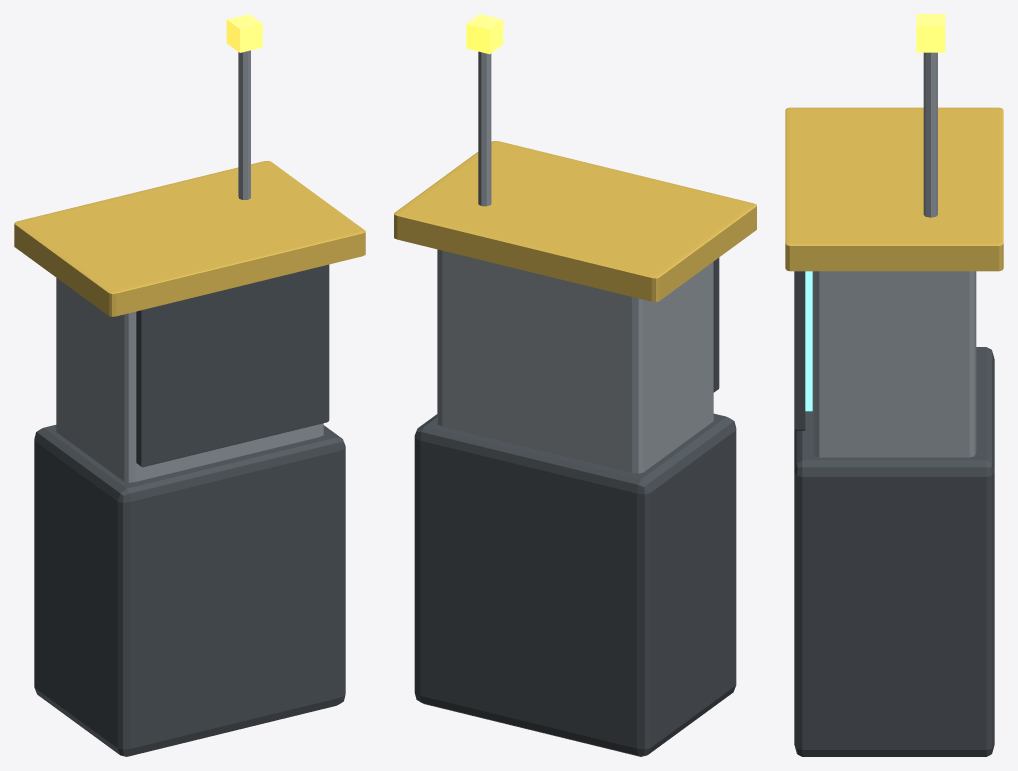
The model's file is shop_terminal.glb.
The picture shows the model from 3 angles, left to right: view 1: azimuth 30°, elevation 25°; view 2: azimuth 150°, elevation 25°; view 3: azimuth 270°, elevation 25°; orthographic projection. The views are drawn at different scales.
Visible parts, largest first — view 1: Base.001, Top.001, ScreenFrame, Body.001, Antenna, Beacon.001; view 2: Base.001, Body.001, Top.001, Antenna, Beacon.001, ScreenFrame; view 3: Base.001, Top.001, Body.001, Antenna, ScreenFrame, Beacon.001, Screen.
Part boxes in pixels (x1,y1,x2,y2): Base.001: (34,425,345,756); Top.001: (14,160,365,316); ScreenFrame: (136,264,329,467); Body.001: (56,278,323,482); Antenna: (238,50,250,199); Beacon.001: (226,14,262,52); Base.001: (414,413,736,756); Body.001: (437,249,713,473); Top.001: (394,141,756,301); Antenna: (478,51,491,206); Beacon.001: (466,14,503,54); ScreenFrame: (713,257,719,392); Base.001: (794,347,994,756); Top.001: (785,107,1003,271); Body.001: (812,271,976,457); Antenna: (923,52,937,217); ScreenFrame: (794,271,805,430); Beacon.001: (916,14,945,52); Screen: (805,271,812,411).
Size of the model in its own units: 0.9 by 2.18 by 0.6.
